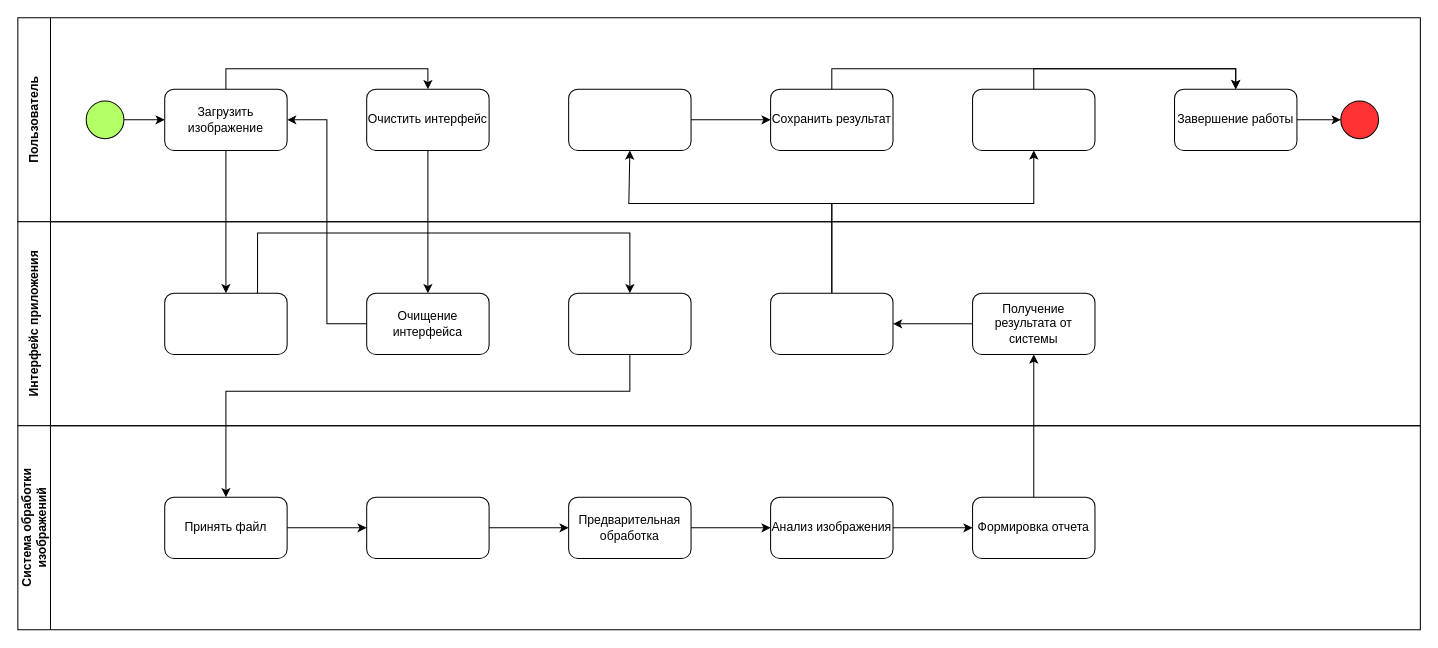
Some shapes in this 1438 by 648 pixel diagram are drawn without their labels. Each missing label, with the centre of its shape:
Валидация изображения: (x=427, y=527)
Отображение результата: (x=831, y=323)
Отобразить форму загрузки: (x=225, y=323)
Отправить файл на обработку: (x=629, y=323)
Просмотр результата: (x=629, y=119)
Экспоритровать отчет: (x=1033, y=119)
